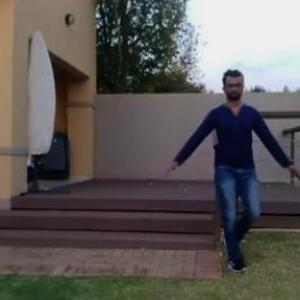land: (155, 65, 296, 279)
